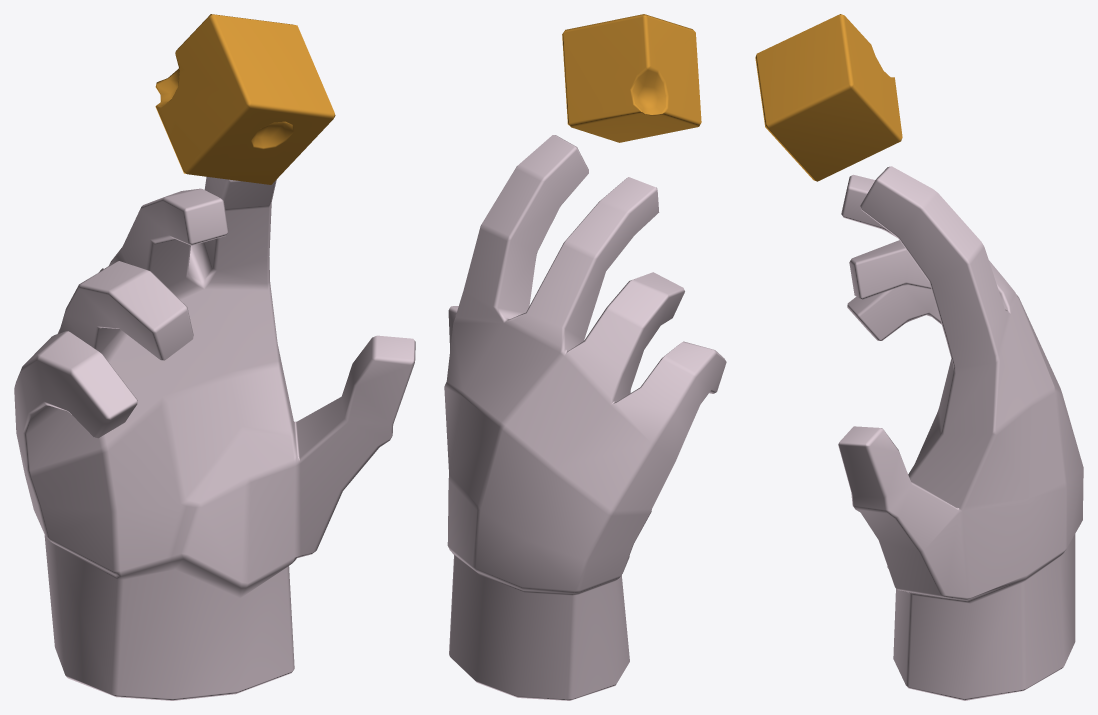
Rendered from mod_sc_roma_001_sculpture_006.fbx.
3 views of the same model, side by side, from view 1: azimuth 30°, elevation 25°; view 2: azimuth 150°, elevation 25°; view 3: azimuth 270°, elevation 25° (orthographic). The views are drawn at different scales.
Visible parts, largest first — view 1: mod_sc_roma_001_sculpture_006; view 2: mod_sc_roma_001_sculpture_006; view 3: mod_sc_roma_001_sculpture_006.
Part boxes in pixels (box(x1,y1,x2,y2)): mod_sc_roma_001_sculpture_006: box(14, 14, 415, 700); mod_sc_roma_001_sculpture_006: box(444, 14, 726, 700); mod_sc_roma_001_sculpture_006: box(755, 14, 1083, 700).
Size of what is drawn, in the model's own units: 540 by 1101 by 525.
